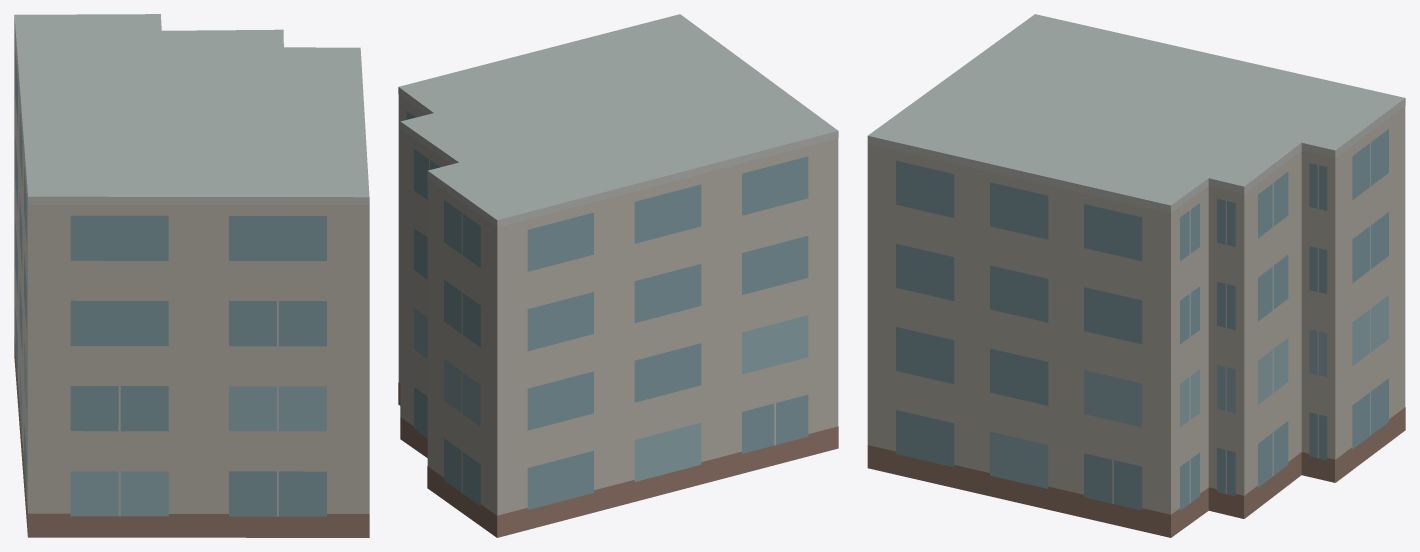
The model's file is survey-upis-32892749.glb.
The picture shows the model from 3 angles, left to right: view 1: azimuth 30°, elevation 25°; view 2: azimuth 150°, elevation 25°; view 3: azimuth 270°, elevation 25°; orthographic projection. The views are drawn at different scales.
Parts seen in each view (by area): view 1: survey-upis-32892749.tmp; view 2: survey-upis-32892749.tmp; view 3: survey-upis-32892749.tmp.
Part boxes in pixels (x1,y1,x2,y2): survey-upis-32892749.tmp: (14,14,369,537); survey-upis-32892749.tmp: (398,14,838,537); survey-upis-32892749.tmp: (867,14,1405,537).
Bounding box in the file's own units: 12.98 × 10.5 × 15.41.
